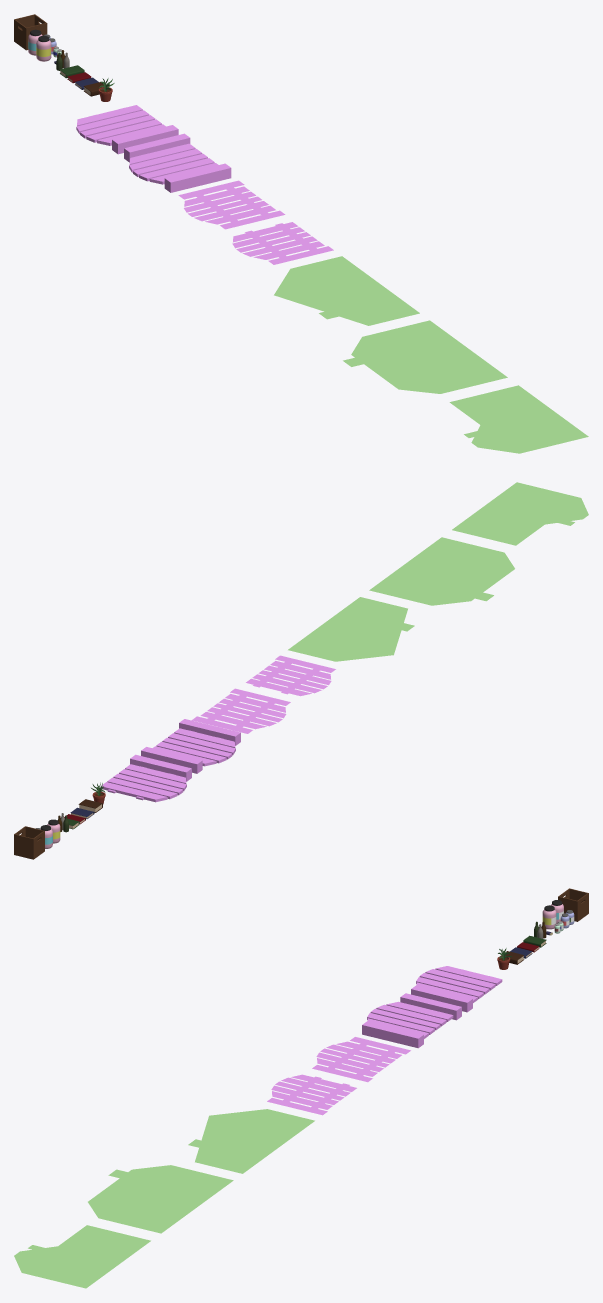
File: OtherProps.fbx
3 views of the same model, one above another, from view 1: azimuth 30°, elevation 25°; view 2: azimuth 150°, elevation 25°; view 3: azimuth 330°, elevation 25° (orthographic). The views are drawn at different scales.
Visible parts, largest first — view 1: Hose Silouette2, Hose Silouette3, Hose Silouette1, Fence3D1, Fence3D2, Fence2D2, Fence2D1, Box; view 2: Hose Silouette2, Hose Silouette3, Hose Silouette1, Fence3D1, Fence3D2, Fence2D2, Fence2D1, Box; view 3: Hose Silouette2, Hose Silouette3, Hose Silouette1, Fence3D1, Fence2D2, Fence3D2, Fence2D1, Box.
Part boxes in pixels (x1,y1,x2,y2): Hose Silouette2: (343,320,507,393); Hose Silouette3: (274,256,419,325); Hose Silouette1: (449,385,588,453); Fence3D1: (124,133,231,192); Fence3D2: (76,105,178,154); Fence2D2: (178,180,285,229); Fence2D1: (232,222,333,264); Box: (14,14,47,50); Hose Silouette2: (369,537,514,605); Hose Silouette3: (288,597,414,661); Hose Silouette1: (452,482,588,545); Fence3D1: (141,719,240,773); Fence3D2: (100,754,191,802); Fence2D2: (192,688,290,733); Fence2D1: (246,655,335,696); Box: (14,826,44,859); Hose Silouette2: (88,1165,233,1233); Hose Silouette3: (188,1109,314,1173); Hose Silouette1: (14,1225,150,1288); Fence3D1: (362,993,461,1048); Fence2D2: (312,1037,410,1082); Fence3D2: (411,966,502,1012); Fence2D1: (267,1074,356,1115); Box: (558,888,588,921).
Size of the model in its own units: 222 by 52.47 by 1967.
